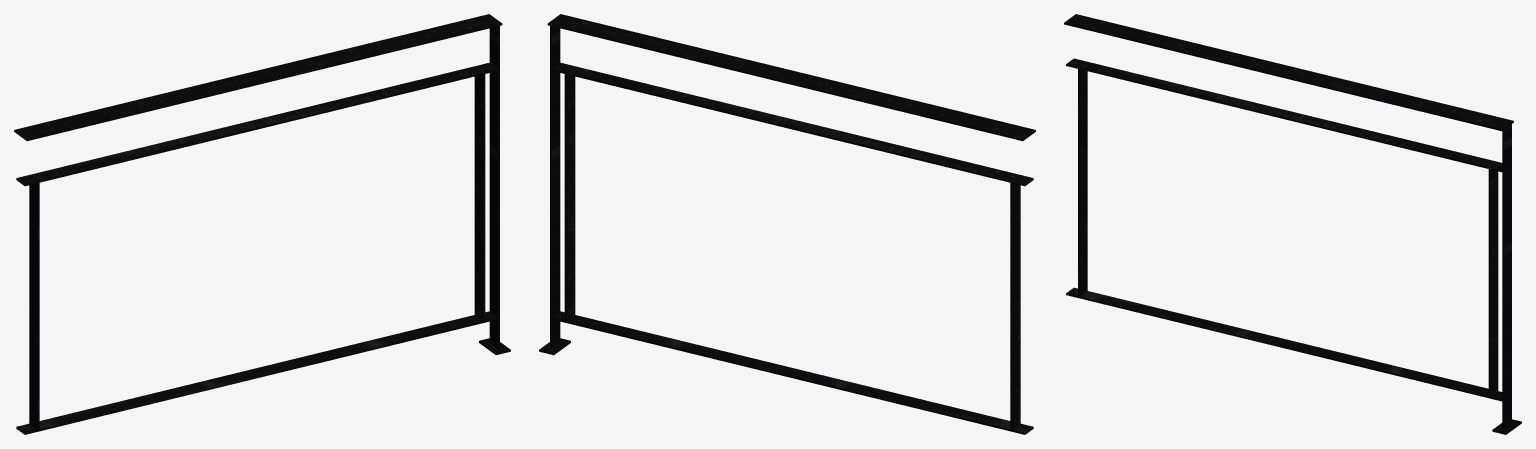
The model's file is railing_42x64_frame.fbx.
3 renders of one model, left to right at view 1: azimuth 30°, elevation 25°; view 2: azimuth 150°, elevation 25°; view 3: azimuth 330°, elevation 25°, orthographic. The views are drawn at different scales.
Visible parts, largest first — view 1: railing_42x64; view 2: railing_42x64; view 3: railing_42x64.
Boxes of the visible parts, bbox=[...] form: railing_42x64: bbox=[14, 14, 510, 434]; railing_42x64: bbox=[539, 14, 1035, 434]; railing_42x64: bbox=[1064, 14, 1521, 434].
Bounding box in the file's own units: 64.88 × 42.25 × 4.
Materials: 1 (1 with a texture image).
